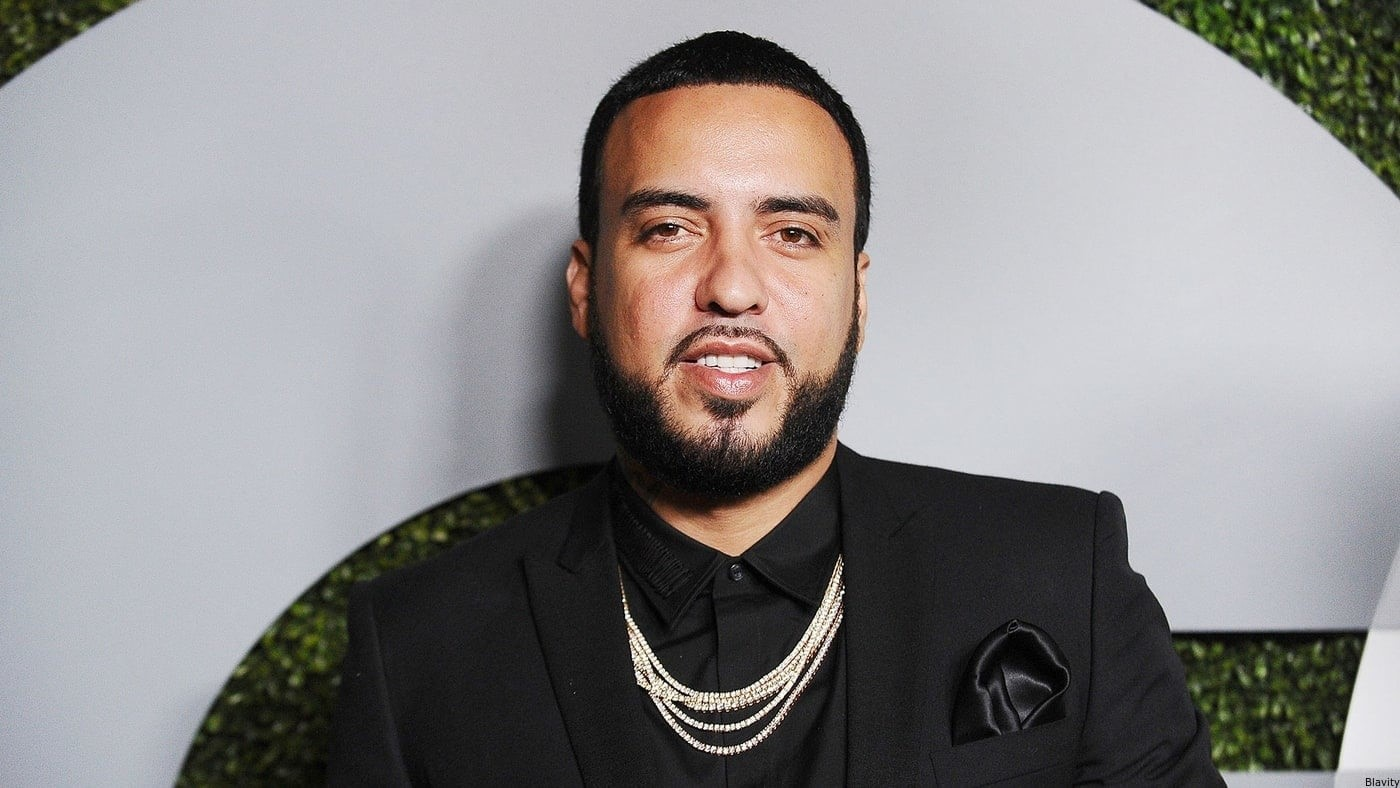face_no_mask: (568, 32, 876, 497)
